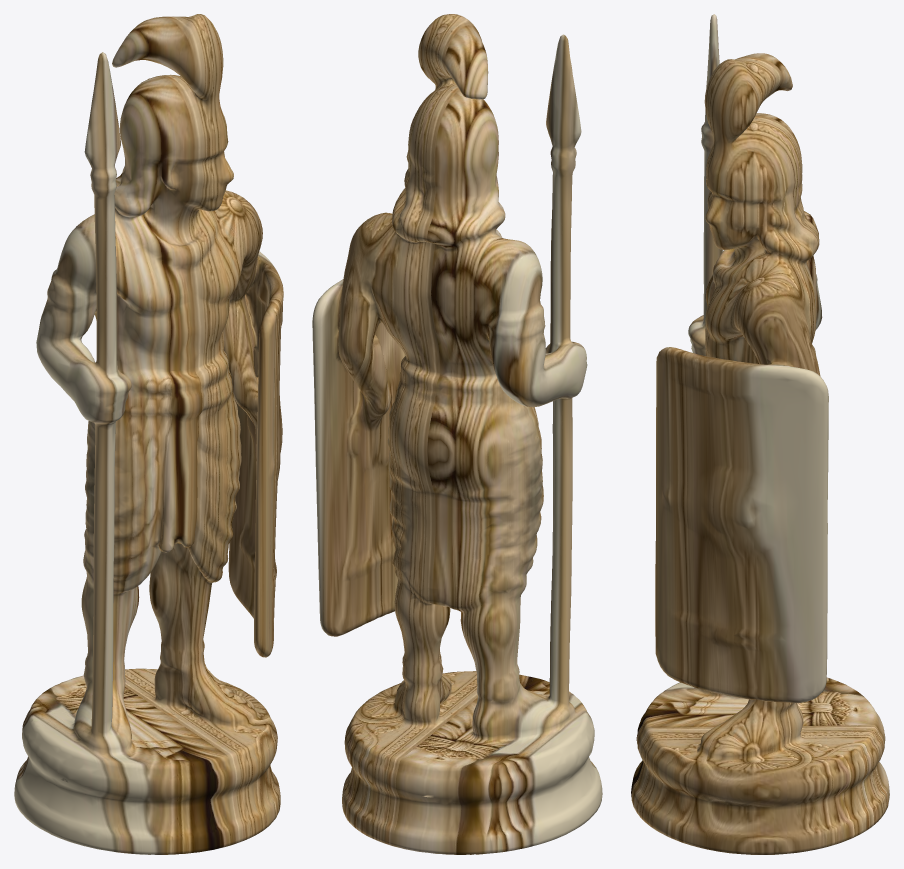
The model's file is padati.glb.
3 renders of one model, left to right at view 1: azimuth 30°, elevation 25°; view 2: azimuth 150°, elevation 25°; view 3: azimuth 270°, elevation 25°, orthographic. The views are drawn at different scales.
Parts seen in each view (by area): view 1: geometry_0; view 2: geometry_0; view 3: geometry_0.
Boxes of the visible parts, x1,y1,x2,y2 form: geometry_0: (14, 14, 283, 854); geometry_0: (312, 14, 602, 854); geometry_0: (631, 14, 889, 854).
Bounding box in the file's own units: 0.6399 × 1.97 × 0.6082.
Materials: 1 (1 with a texture image).
